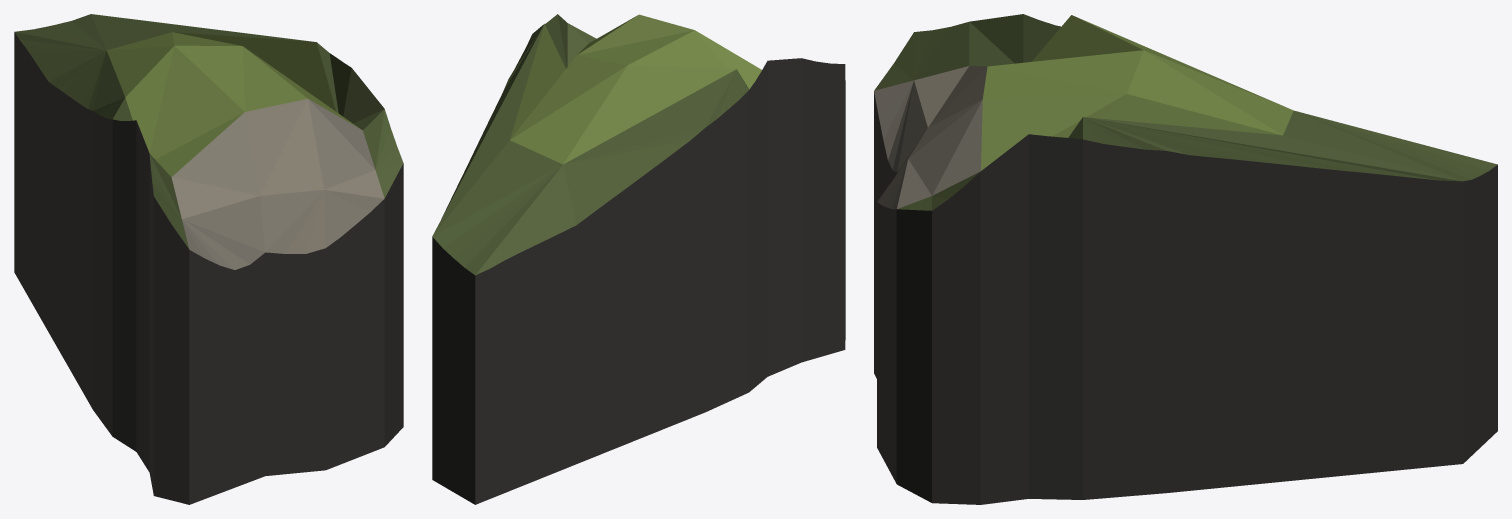
The model's file is cliff_sections_10b_prototype.glb.
3 renders of one model, left to right at view 1: azimuth 30°, elevation 25°; view 2: azimuth 150°, elevation 25°; view 3: azimuth 270°, elevation 25°, orthographic. The views are drawn at different scales.
Parts seen in each view (by area): view 1: Front columns study; view 2: Front columns study; view 3: Front columns study.
Part boxes in pixels (x1,y1,x2,y2): Front columns study: (14, 14, 403, 504); Front columns study: (432, 14, 845, 504); Front columns study: (874, 14, 1497, 504).
Size of the model in its own units: 55.57 by 70 by 104.
